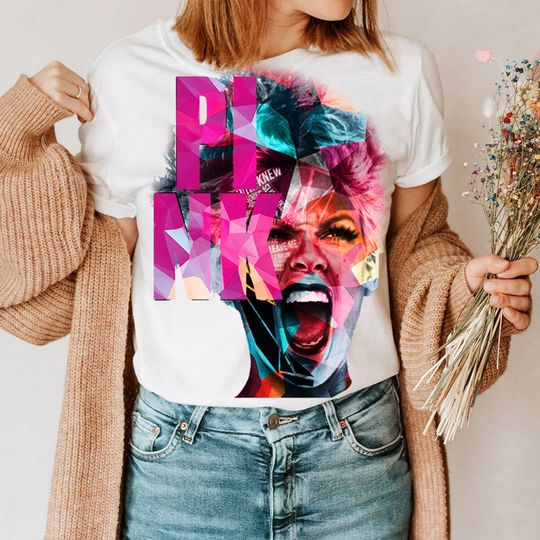design: (151, 64, 391, 400)
